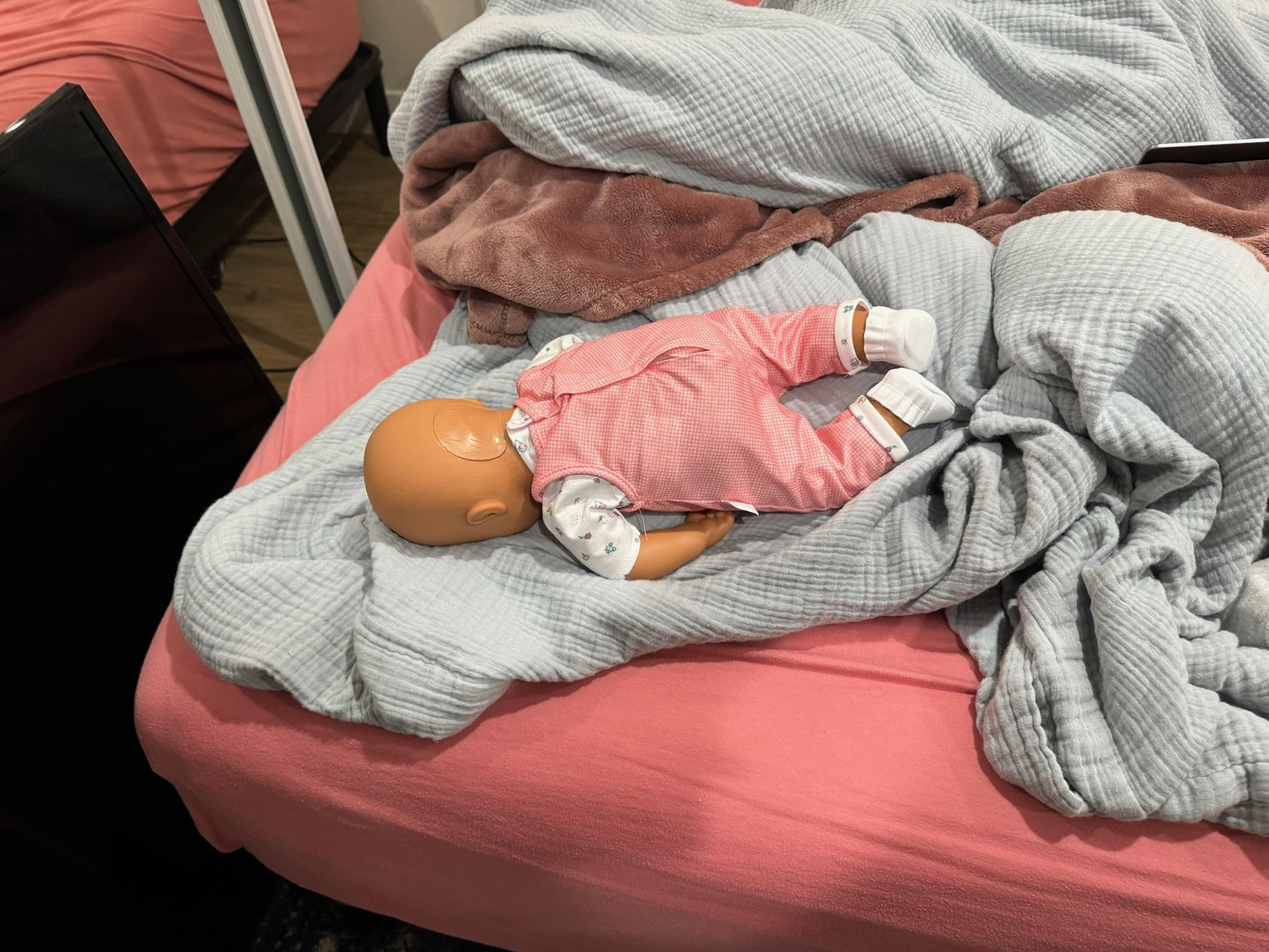baby: (366, 294, 945, 584)
